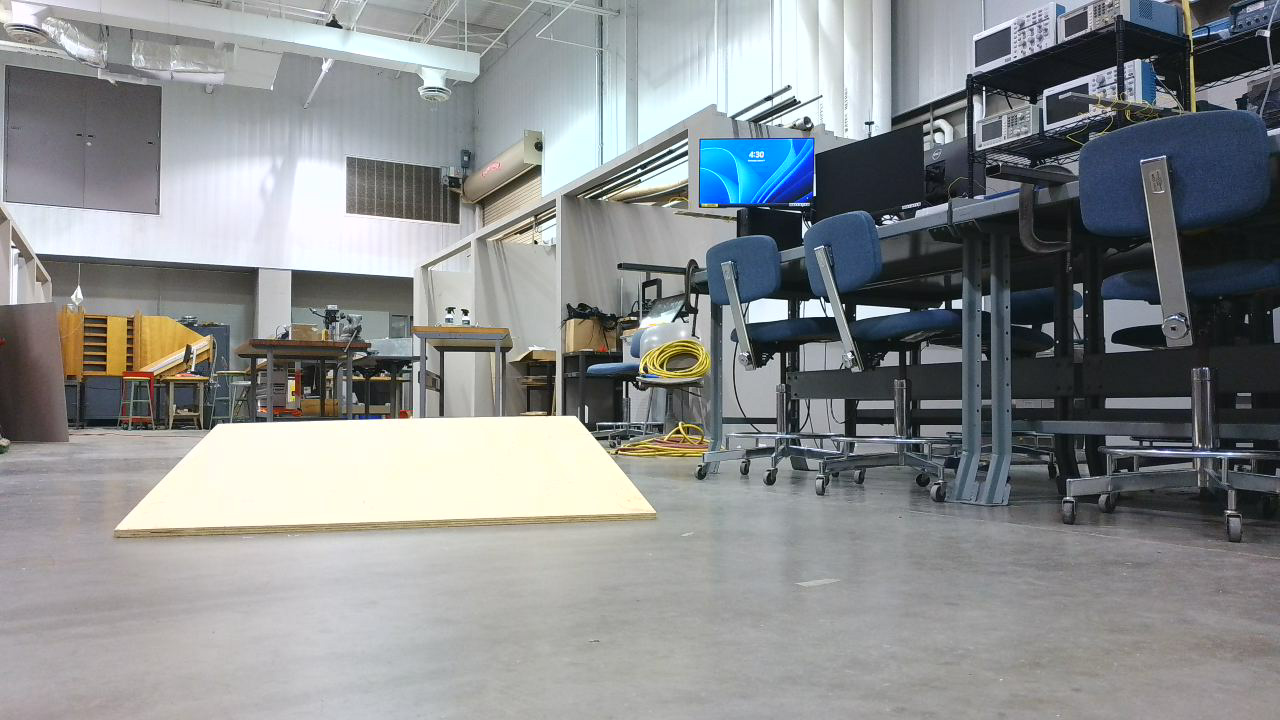ramp: (114, 416, 666, 549)
